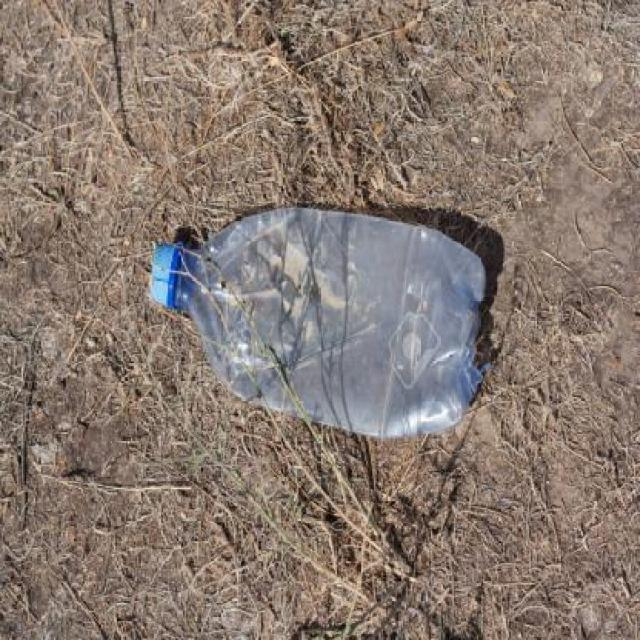bottle: (122, 181, 494, 460)
